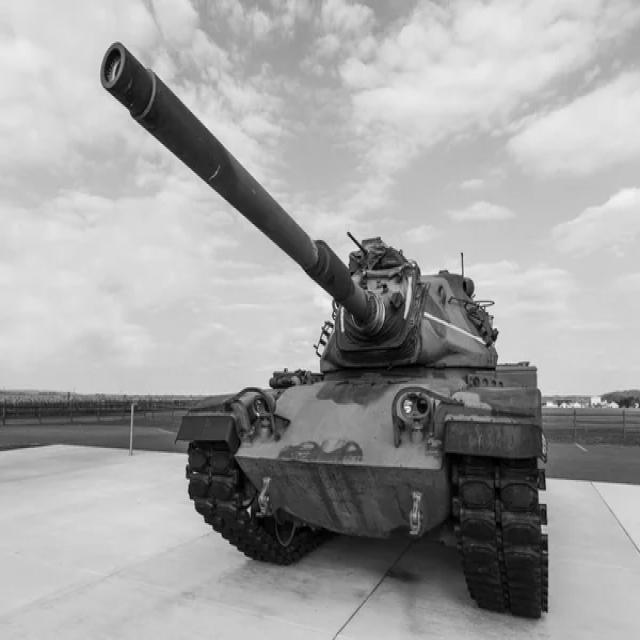Tank: (98, 41, 555, 622)
